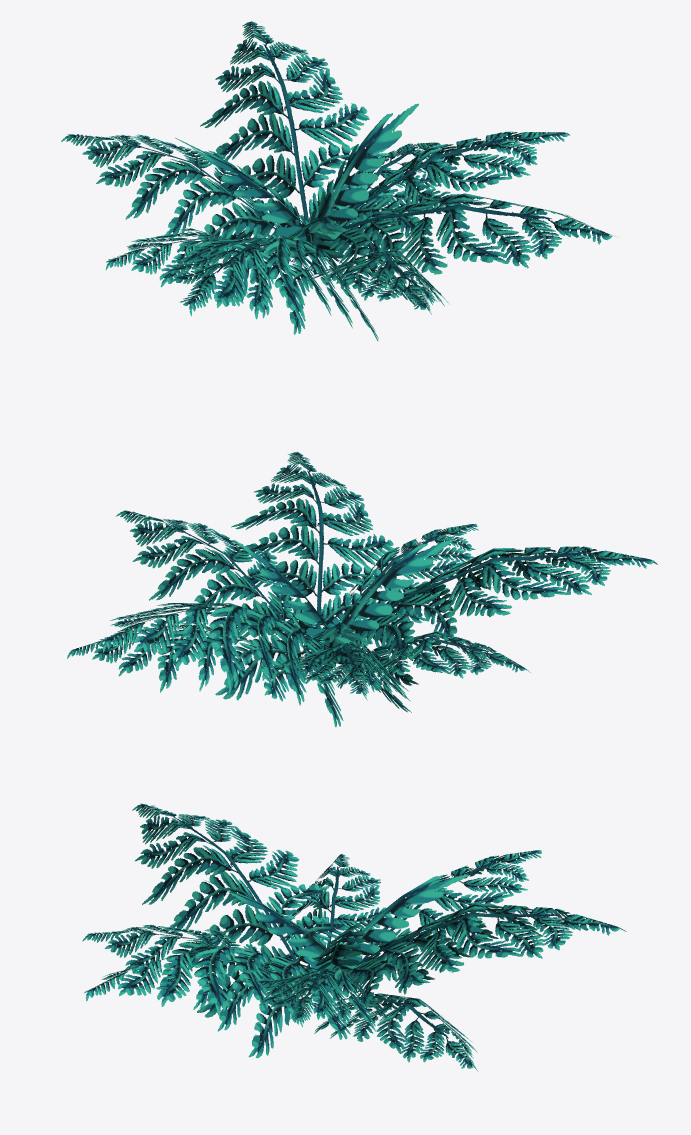
The model's file is fern large.fbx.
The picture shows the model from 3 angles, top to bottom: view 1: azimuth 30°, elevation 25°; view 2: azimuth 150°, elevation 25°; view 3: azimuth 270°, elevation 25°; orthographic projection. The views are drawn at different scales.
Parts seen in each view (by area): view 1: Plane.007; view 2: Plane.007; view 3: Plane.007.
Part boxes in pixels (bbox=[...]): Plane.007: bbox=[61, 21, 614, 341]; Plane.007: bbox=[67, 451, 657, 727]; Plane.007: bbox=[82, 803, 626, 1071].
Bounding box in the file's own units: 183 × 68.94 × 195.
